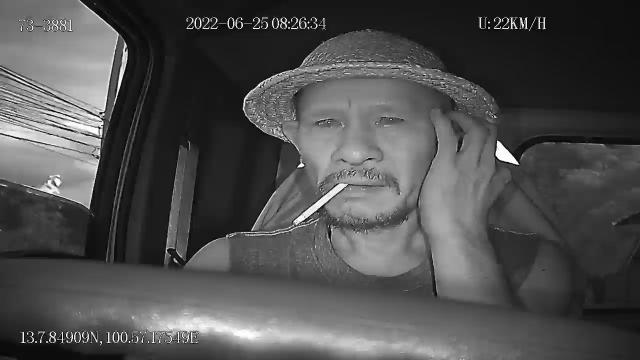SafeDriving: (366, 106, 412, 131), (308, 111, 348, 131)
Smoking: (294, 180, 348, 230)
